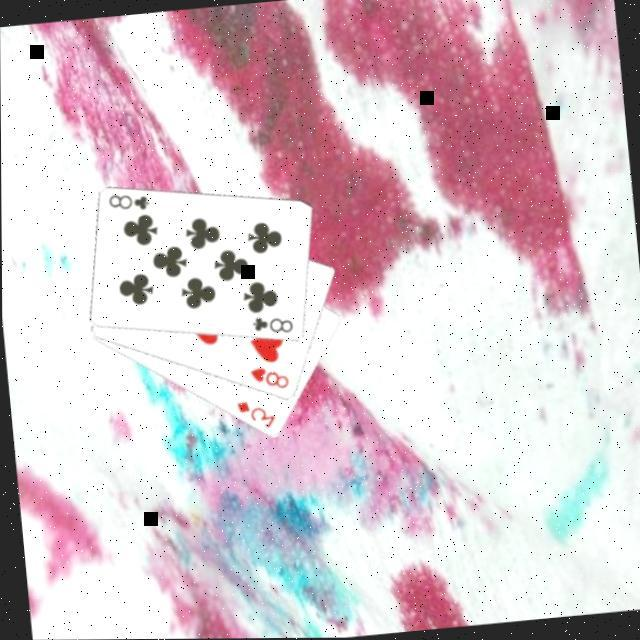3D: (233, 397, 280, 436)
8C: (249, 313, 297, 341), (105, 190, 153, 218)
8H: (246, 363, 292, 397)
